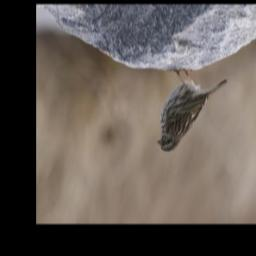Sparrow: (153, 67, 229, 156)
